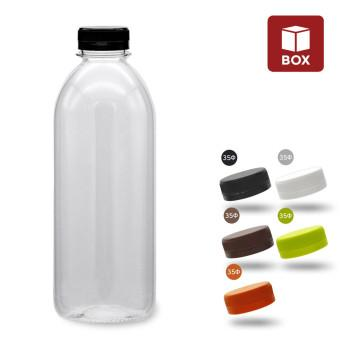bottle: (52, 24, 155, 321)
